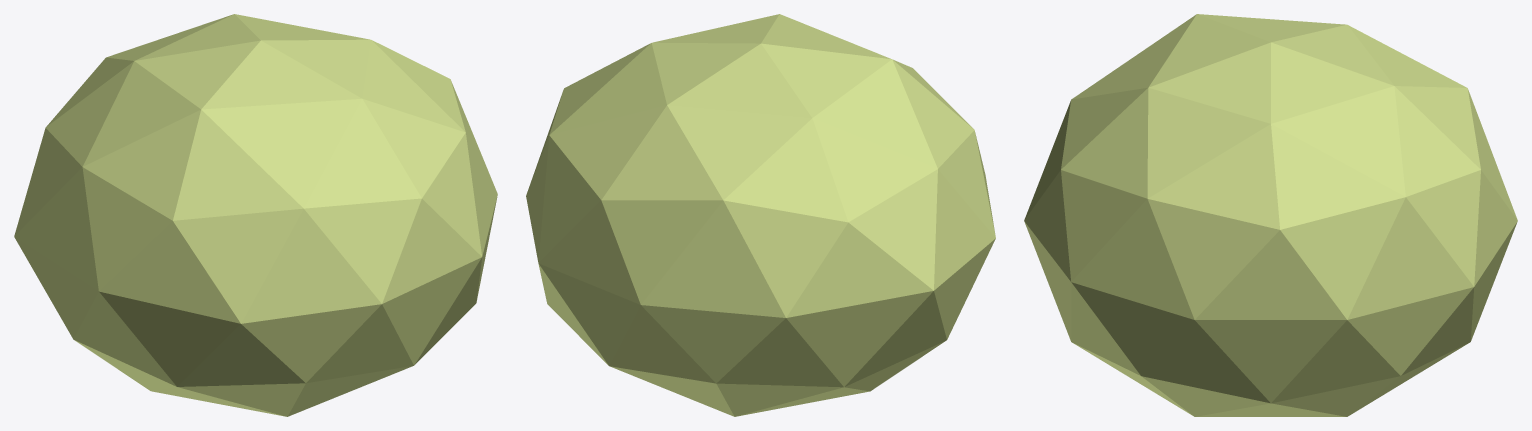
The model's file is bush.fbx.
3 renders of one model, left to right at view 1: azimuth 30°, elevation 25°; view 2: azimuth 150°, elevation 25°; view 3: azimuth 270°, elevation 25°, orthographic. The views are drawn at different scales.
Parts seen in each view (by area): view 1: Icosphere; view 2: Icosphere; view 3: Icosphere.
Part boxes in pixels (x1,y1,x2,y2): Icosphere: (14, 14, 497, 416); Icosphere: (526, 14, 995, 416); Icosphere: (1024, 14, 1517, 416).
Bounding box in the file's own units: 93.36 × 76.14 × 95.5.
